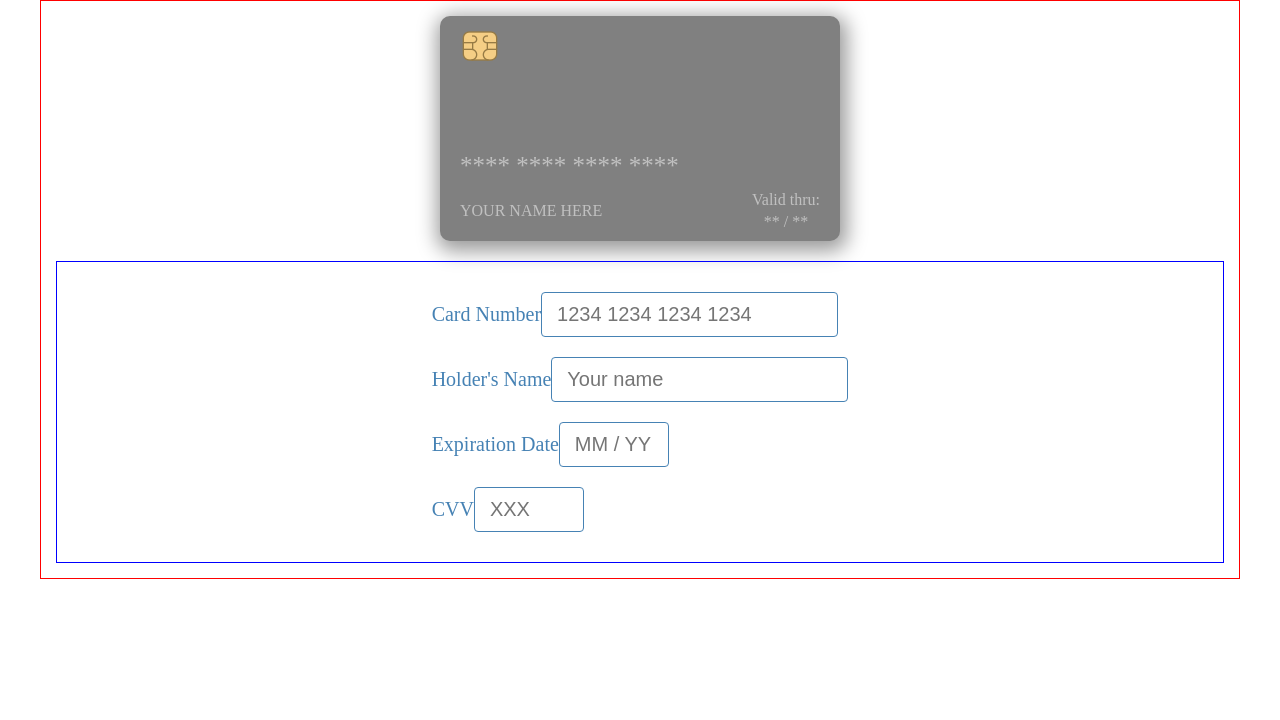
Test case: Testing user input › should highlight the holderName on card when user inputs
Type "Ali Ahmed" into the field labelled "Holder's Name" at (700, 380), box left=551, top=357, right=848, bottom=402
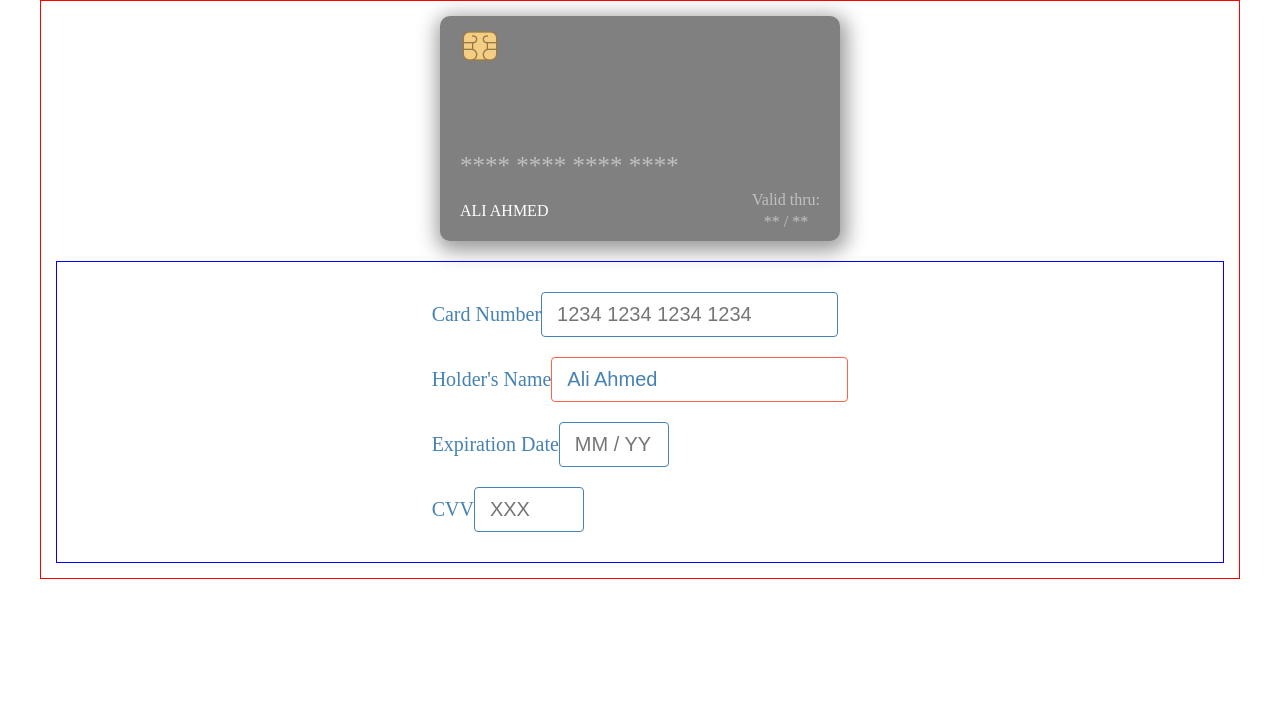
Expected: the element with test id "holderName" reads "Ali Ahmed", left=460, top=202, right=548, bottom=218
